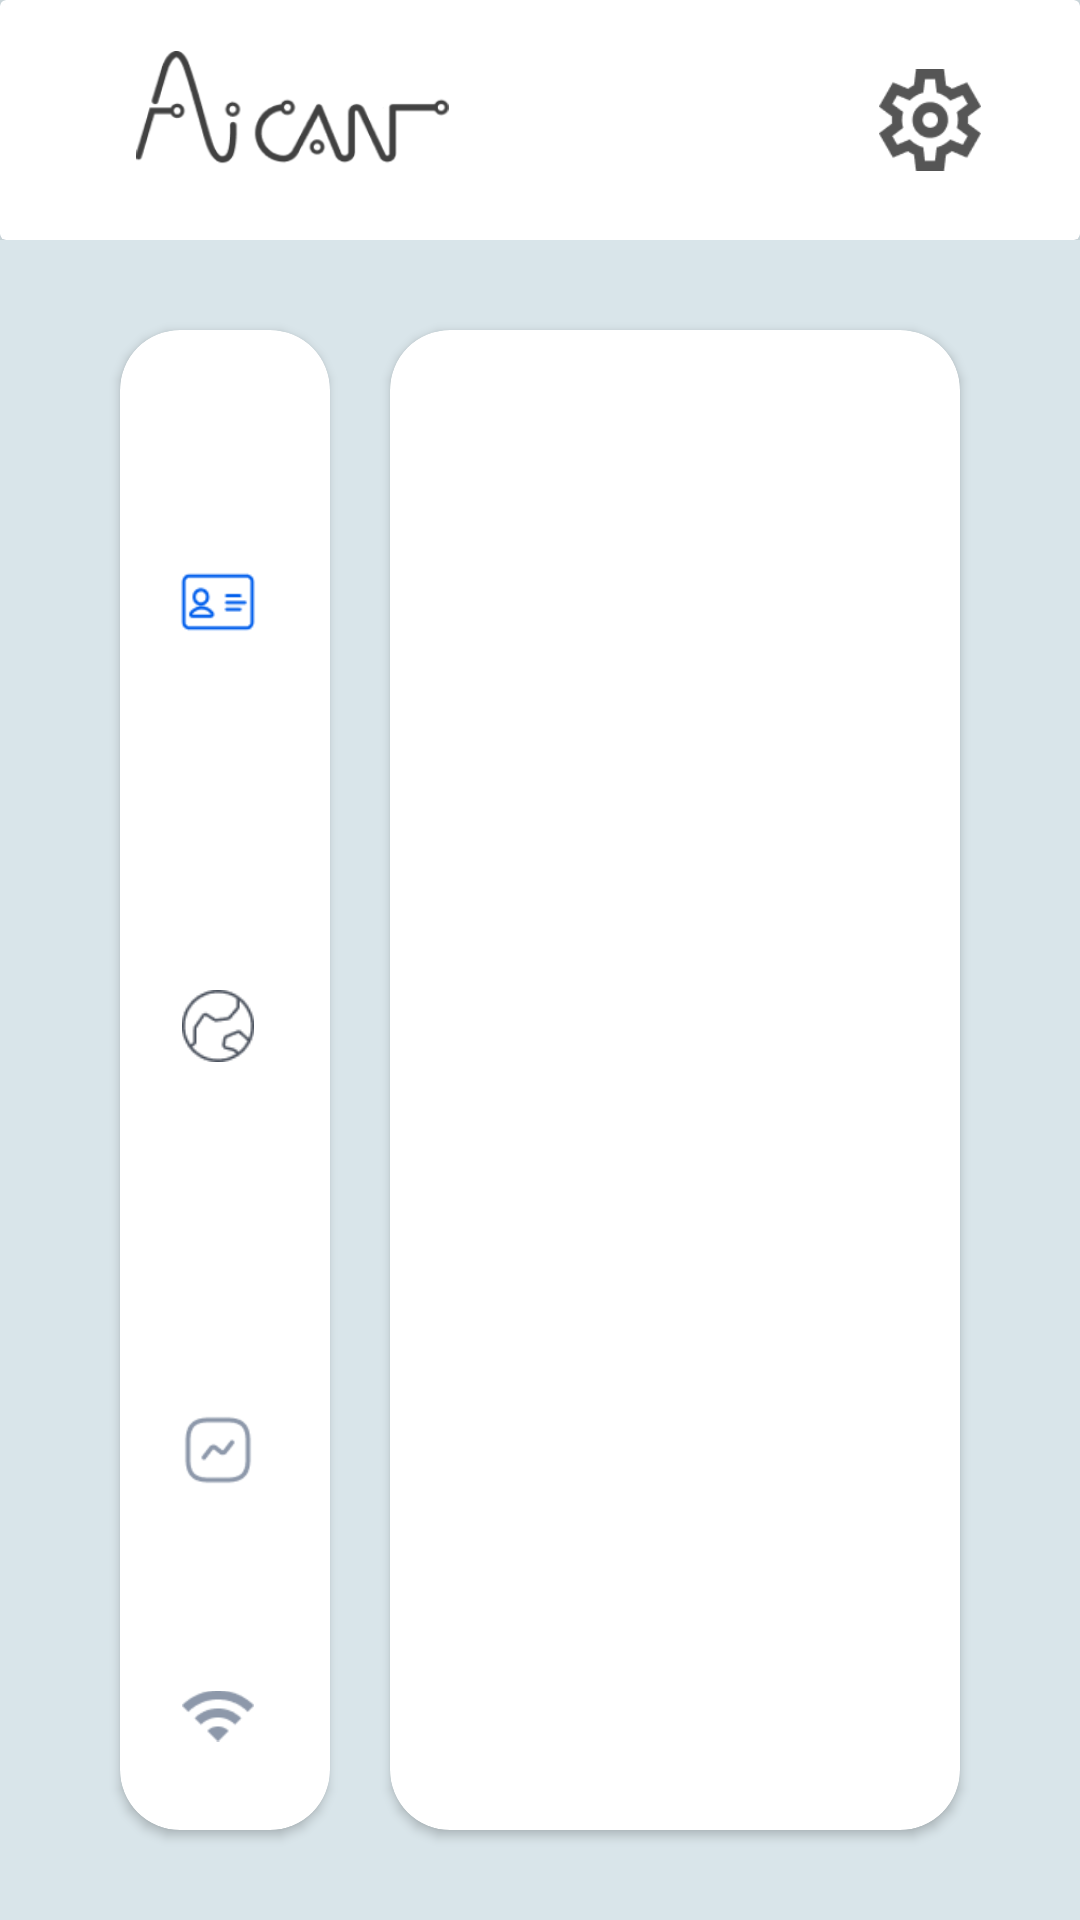

Icon bounding boxes for this 1080px×1920px phone screenshot, format rect(x1, y1, x2, y2):
setting: rect(879, 69, 981, 171)
